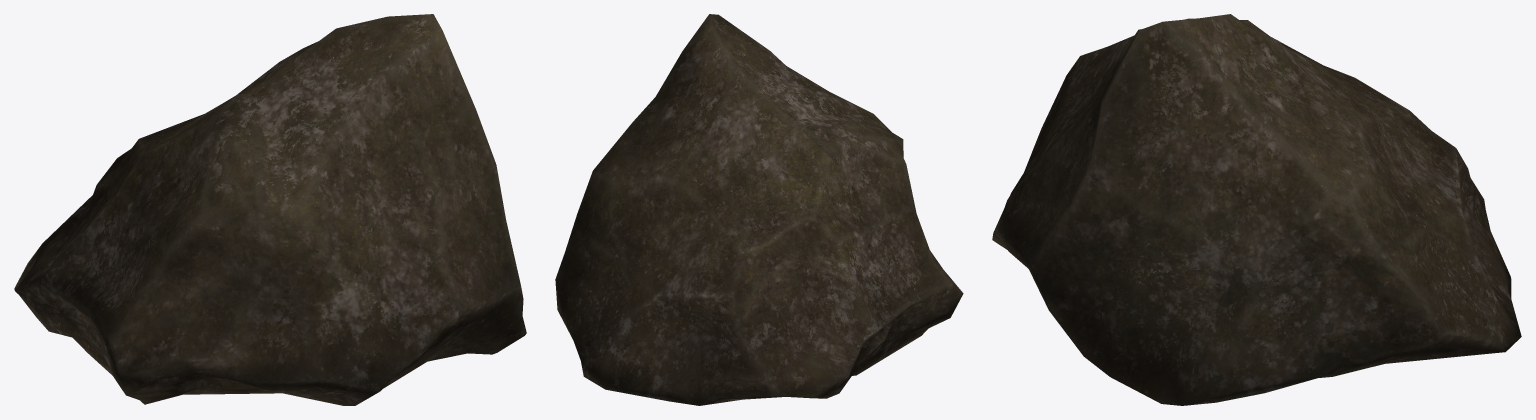
Rendered from Low_poly_stone.glb.
3 views of the same model, side by side, from view 1: azimuth 30°, elevation 25°; view 2: azimuth 150°, elevation 25°; view 3: azimuth 270°, elevation 25° (orthographic). The views are drawn at different scales.
Visible parts, largest first — view 1: defaultMaterial; view 2: defaultMaterial; view 3: defaultMaterial.
Part boxes in pixels (x1,y1,x2,y2): defaultMaterial: [14, 14, 526, 405]; defaultMaterial: [555, 14, 963, 405]; defaultMaterial: [992, 14, 1521, 405].
Size of the model in its own units: 1.84 by 1.41 by 2.
Materials: 1 (1 with a texture image).
